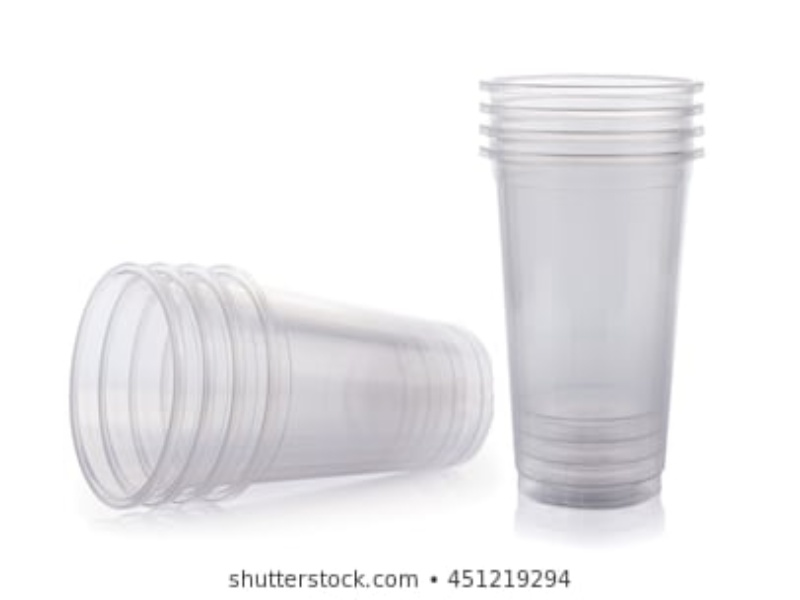plastic-cup: (56, 250, 499, 515), (472, 67, 709, 512)
